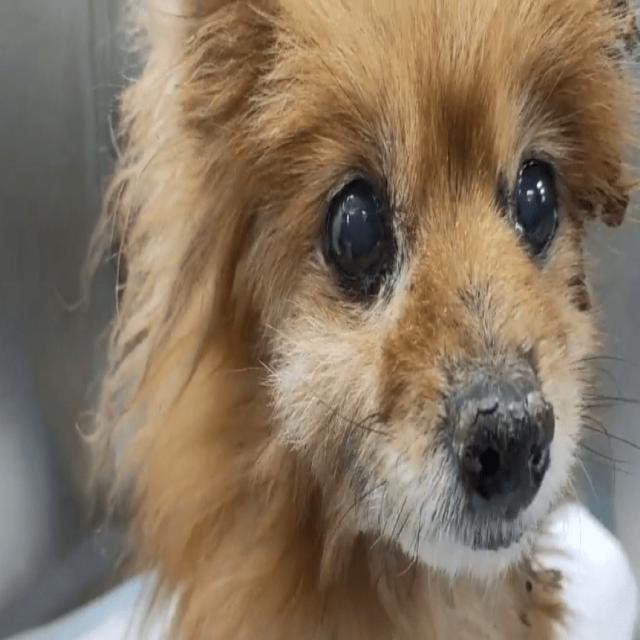eye: (320, 167, 400, 299), (507, 150, 563, 264)
